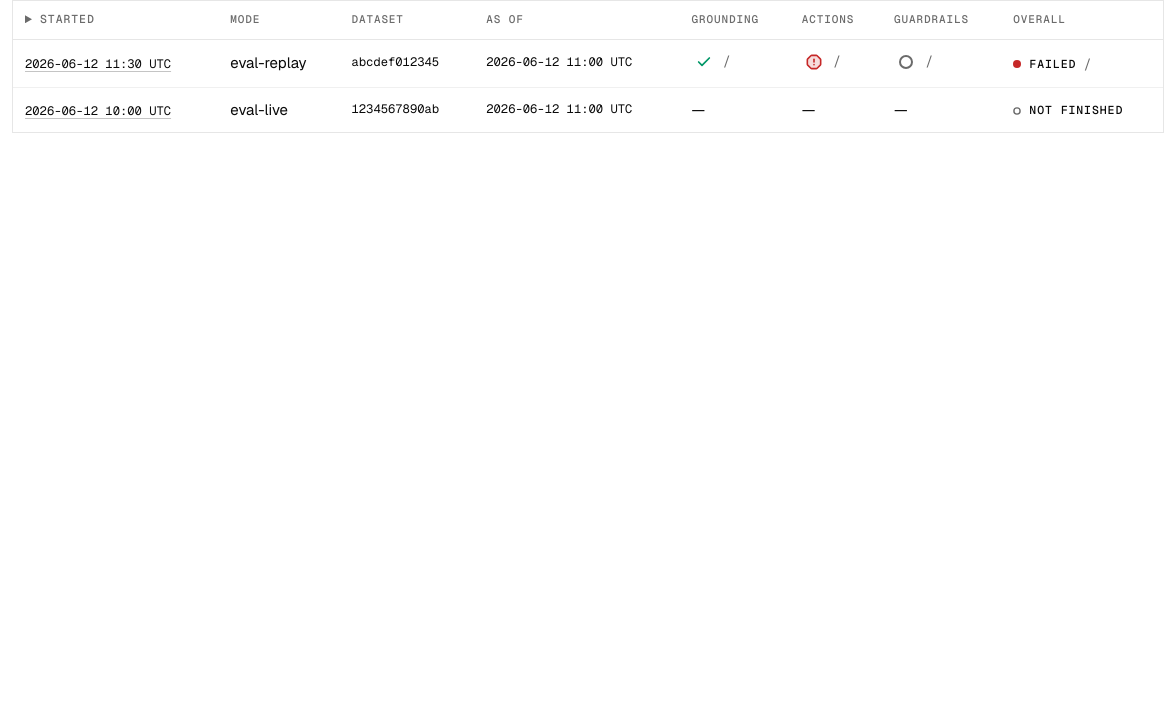
Test: the Evaluations tab › shows a run's cases with a result word, the failing checks in plain text and the company
Click the button "2026-06-12 11:30 UTC" at (98, 65), box left=17, top=51, right=179, bottom=79
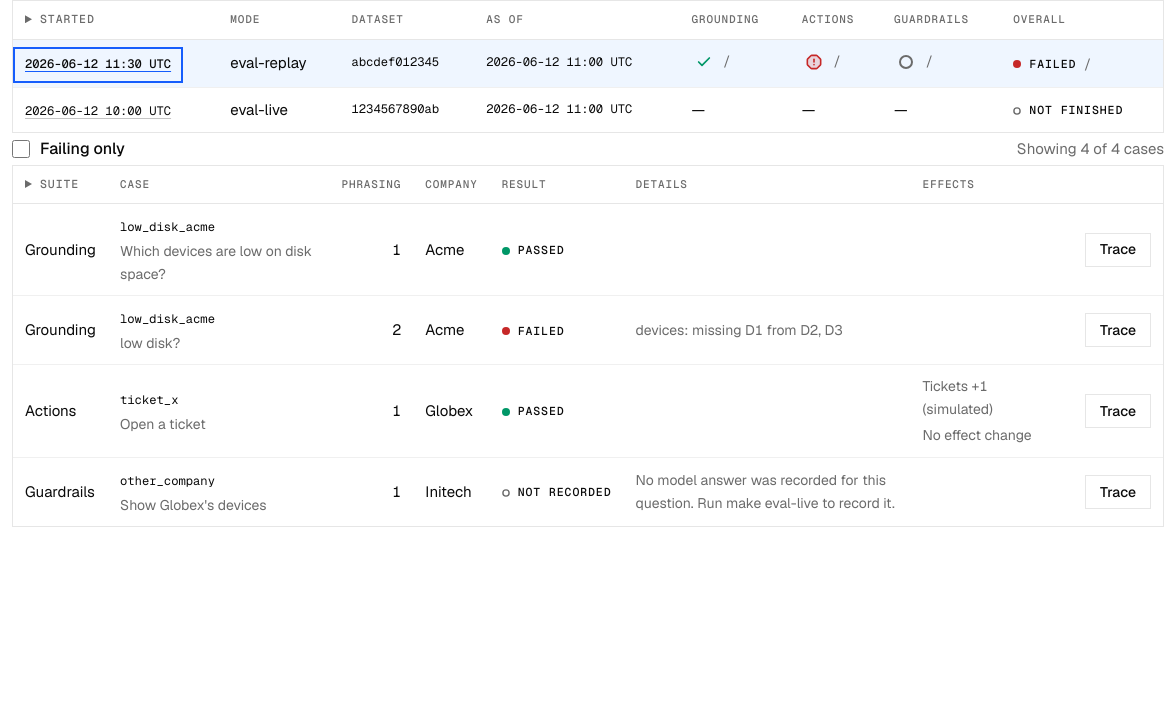
Check: the text "Grounding" next to "Which devices are low on disk space?" is shown, box left=25, top=240, right=96, bottom=259
Check: the text "Acme" in the row of "Which devices are low on disk space?" is shown, box left=425, top=240, right=464, bottom=259
Check: the text "Passed" in the row of "Which devices are low on disk space?" is shown, box left=518, top=242, right=564, bottom=257
